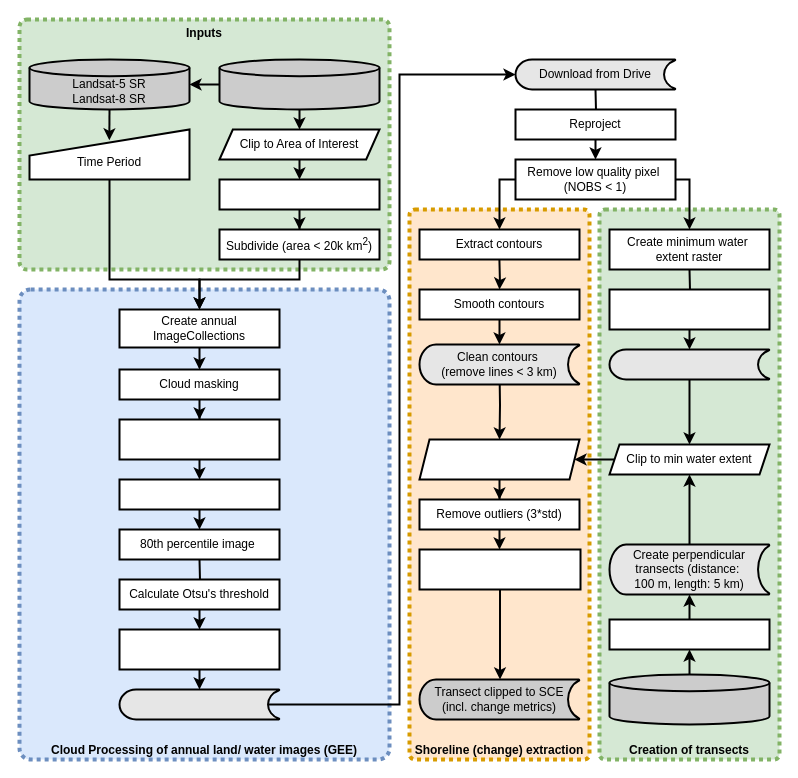
This 798x778 diagram has some shape labels left out. Here are the shapes that lost their labels. From the top down, the centre of each, then its label:
At (x=299, y=84): "OSM global coastline".
At (x=299, y=194): "Create Buffer (20 km)".
At (x=689, y=309): "Clean raster (remove pixel cluster < 50 km 2 )".
At (x=689, y=364): "Vectorize raster".
At (x=199, y=439): "Count observations per pixel (NOBS)".
At (x=499, y=459): "Calculate intersection points".
At (x=199, y=494): "Calculate MNDWI".
At (x=499, y=569): "Calculate change statistics (SCE, EPR, LRR, WLR)".
At (x=199, y=649): "Binary land/ water image (incl. NOBS-band)".
At (x=689, y=634): "Smooth polygon".
At (x=199, y=704): "Export to drive".
At (x=689, y=699): "GDAM admin boundaries".
